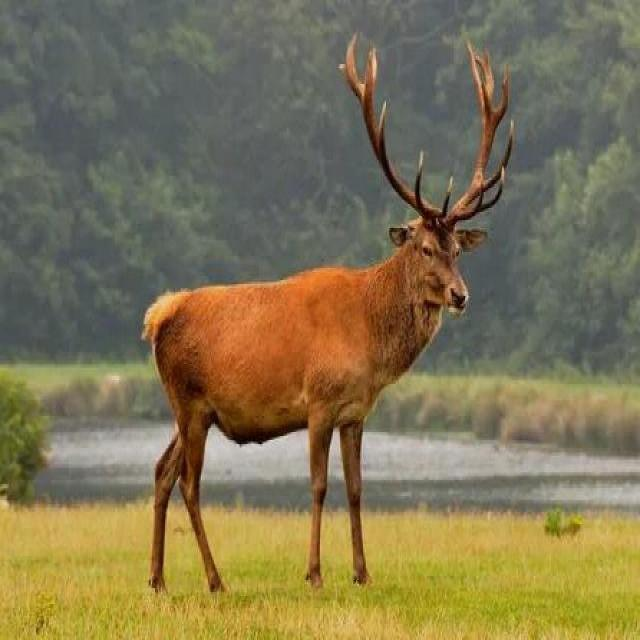deer: (153, 107, 542, 522)
